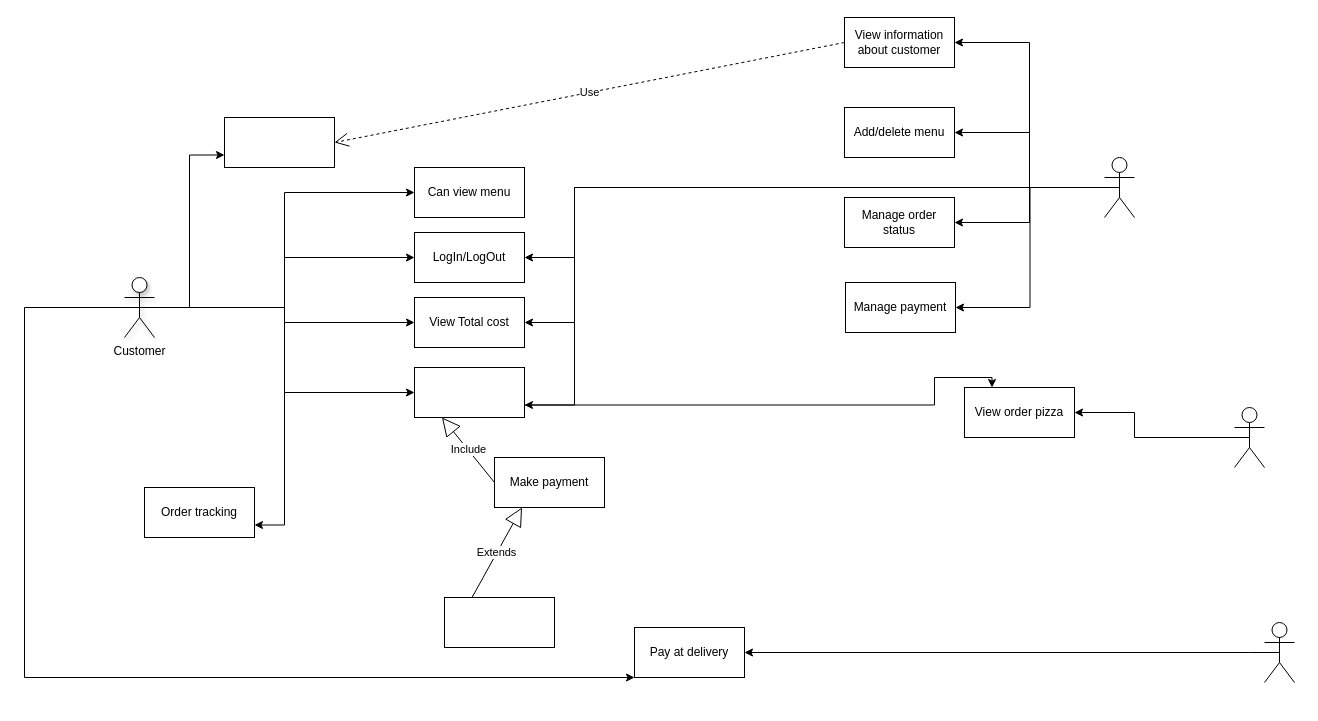
The diagram is 1318 pixels wide and 721 high, and some of its shapes have lost their labels. The shapes that lost their labels are listed below. From the top down, each one's centre as x and y in pixels, then its label:
At (x=279, y=142): "change account details".
At (x=1119, y=187): "Admin".
At (x=469, y=392): "Confirm order".
At (x=1249, y=437): "Chef".
At (x=499, y=622): "Pay online".
At (x=1279, y=652): "Delivery".
